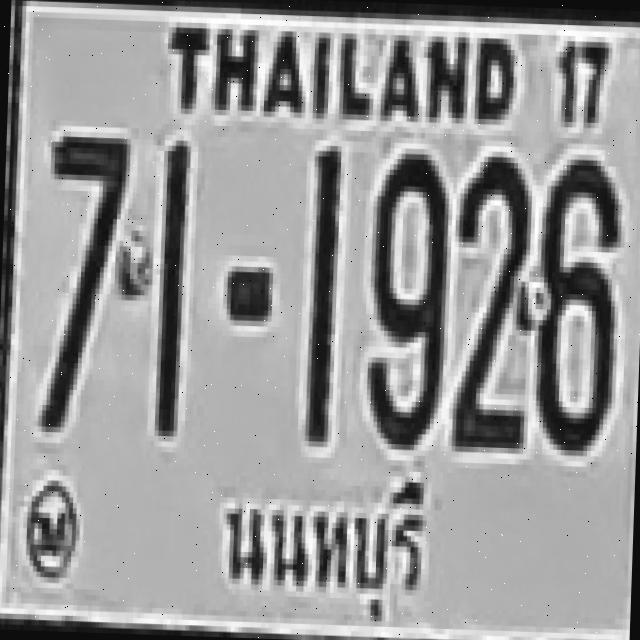1: (300, 145, 338, 436), (304, 148, 339, 412), (155, 140, 187, 404)
2: (450, 153, 535, 440), (446, 152, 532, 418)
6: (530, 152, 620, 452)
7: (41, 130, 128, 428), (45, 130, 127, 332)
9: (361, 147, 447, 445)
Nonthaburi: (207, 469, 430, 611)
